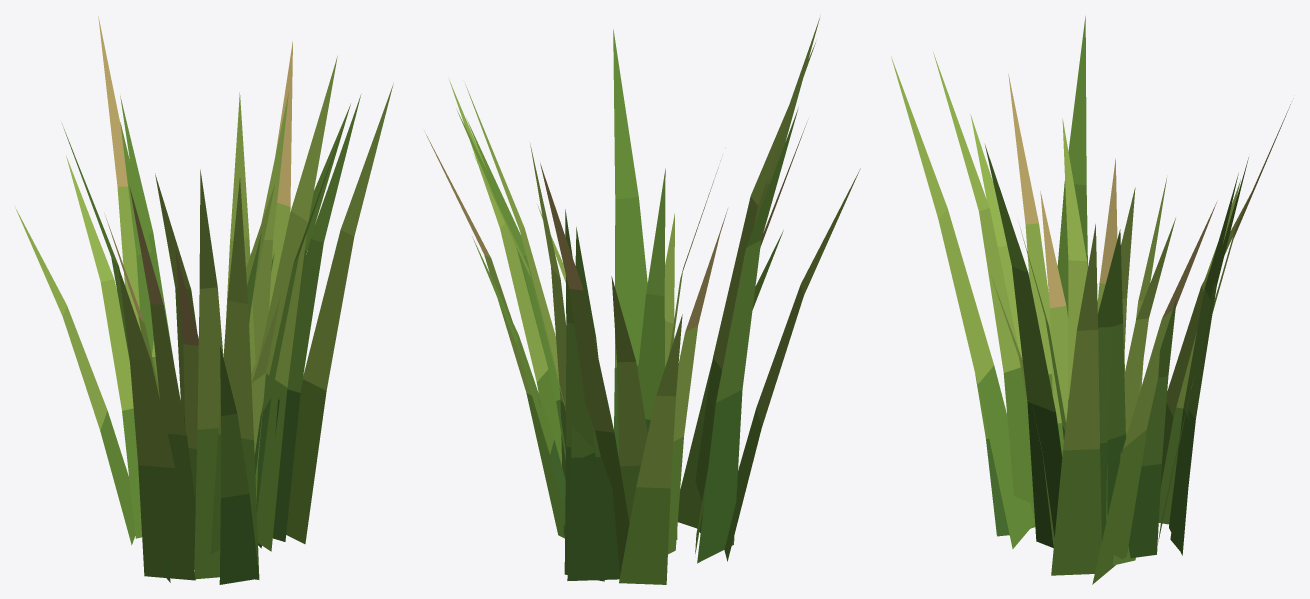
Rendered from G06_CogonTuft.glb.
3 views of the same model, side by side, from view 1: azimuth 30°, elevation 25°; view 2: azimuth 150°, elevation 25°; view 3: azimuth 270°, elevation 25° (orthographic). The views are drawn at different scales.
Visible parts, largest first — view 1: G06_CogonTuft; view 2: G06_CogonTuft; view 3: G06_CogonTuft.
Boxes of the visible parts, bbox=[...] form: G06_CogonTuft: bbox=[15, 16, 393, 584]; G06_CogonTuft: bbox=[424, 18, 860, 584]; G06_CogonTuft: bbox=[891, 16, 1293, 584].
Size of the model in its own units: 0.6524 by 0.8714 by 0.6931.
